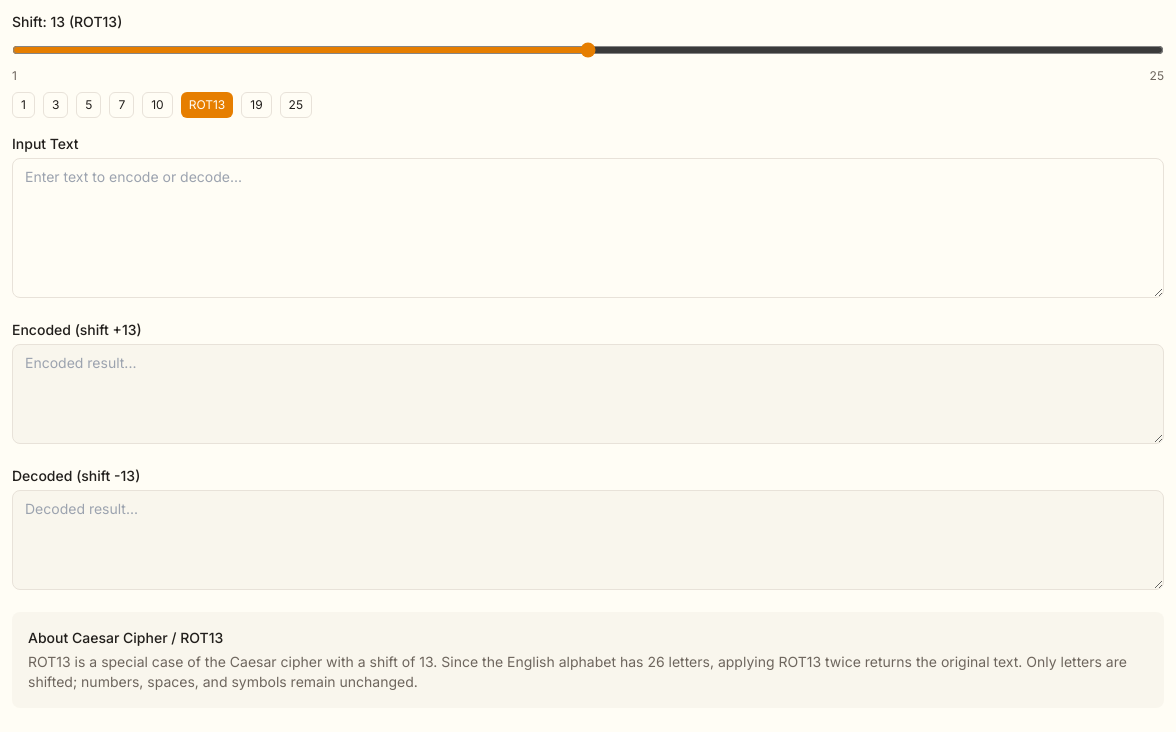
Test case: Rot13Encoder › changes shift when quick shift button is clicked
Step 1. Click the button "3" → [56, 105], box [43,92,68,118]
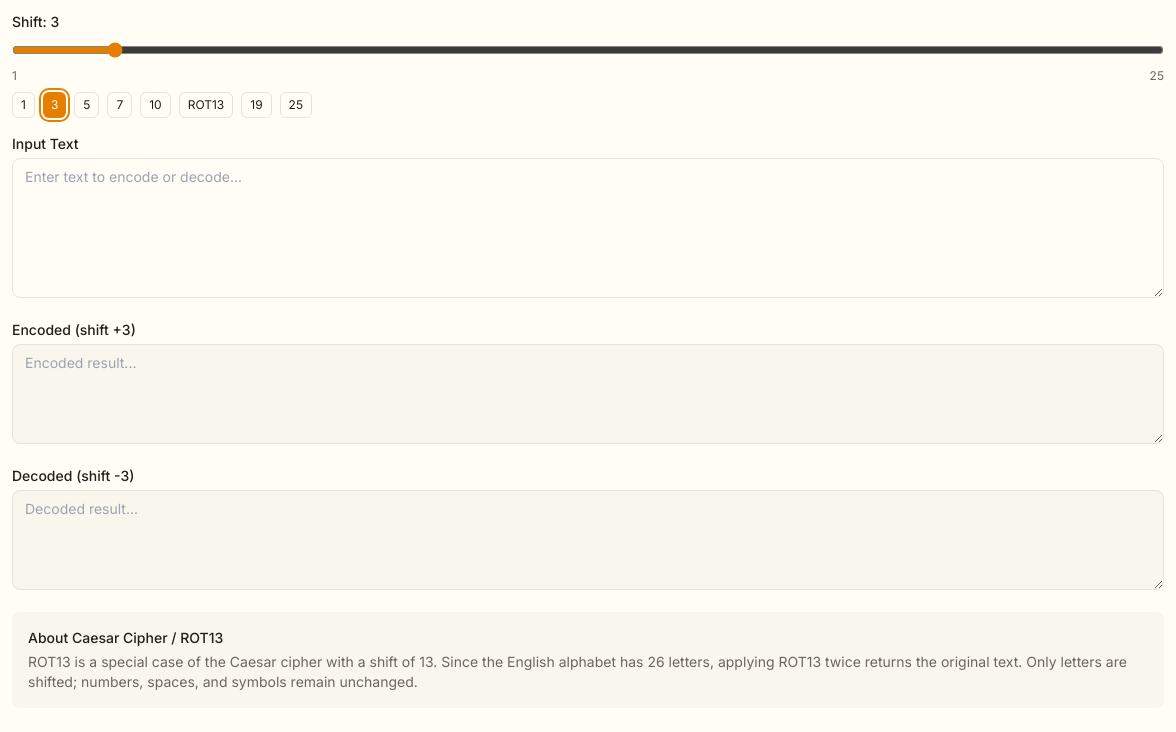
Now the text "Shift: 3" is shown, box [12,13,59,30]
